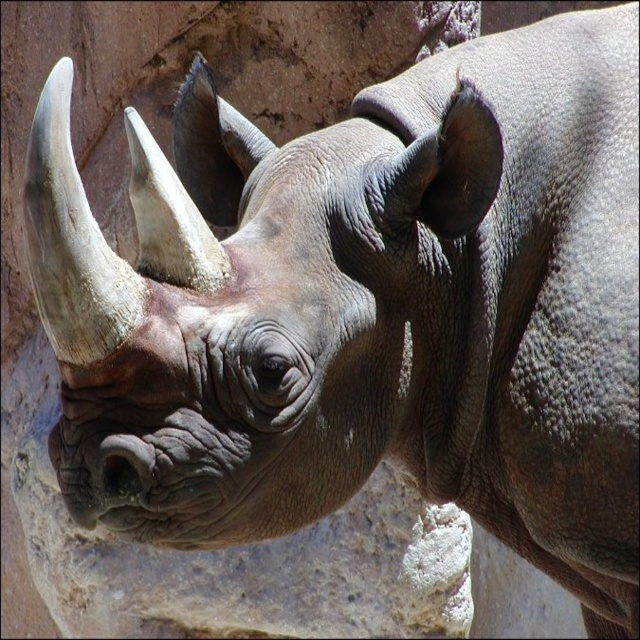Rhinoceros: (16, 0, 639, 639)
